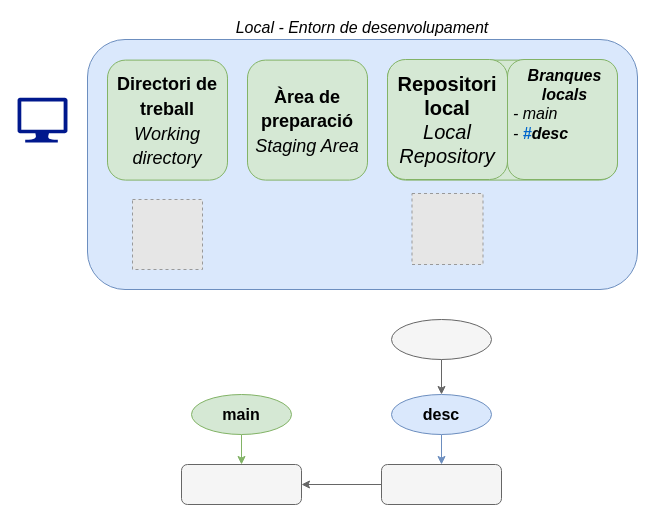
Some shapes in this 655 by 522 pixel diagram are drawn without their labels. Grey dashed boxes stand in for pictures. Here are the shapes that lost their labels. From the top down, the centre of each, then its label:
At point 441,339: "HEAD".
At point 241,484: "commit 0b1b3b4".
At point 441,484: "commit 1b2c5d6".
